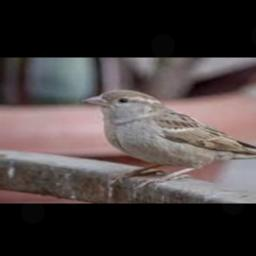Sparrow: (80, 89, 256, 187)
